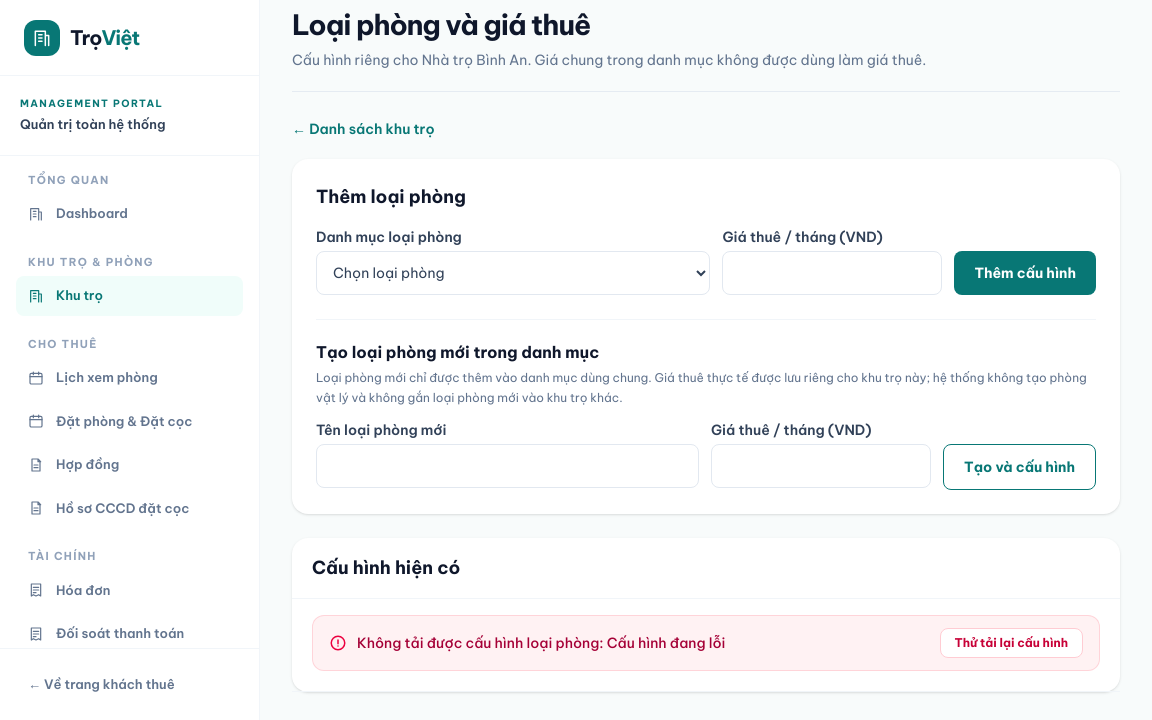
Test: management property room types › keeps property and catalog data when the configurations request fails
(page scrolled)
Expected: the text "Cấu hình riêng cho Nhà trọ Bình An" is shown, [292,50,926,68]
Expected: the text "Không tải được cấu hình loại phòng: Cấu hình đang lỗi" is shown, [357,632,725,652]
Click the button "Thử tải lại cấu hình". click: x=1011, y=642
box: [940,628,1083,658]
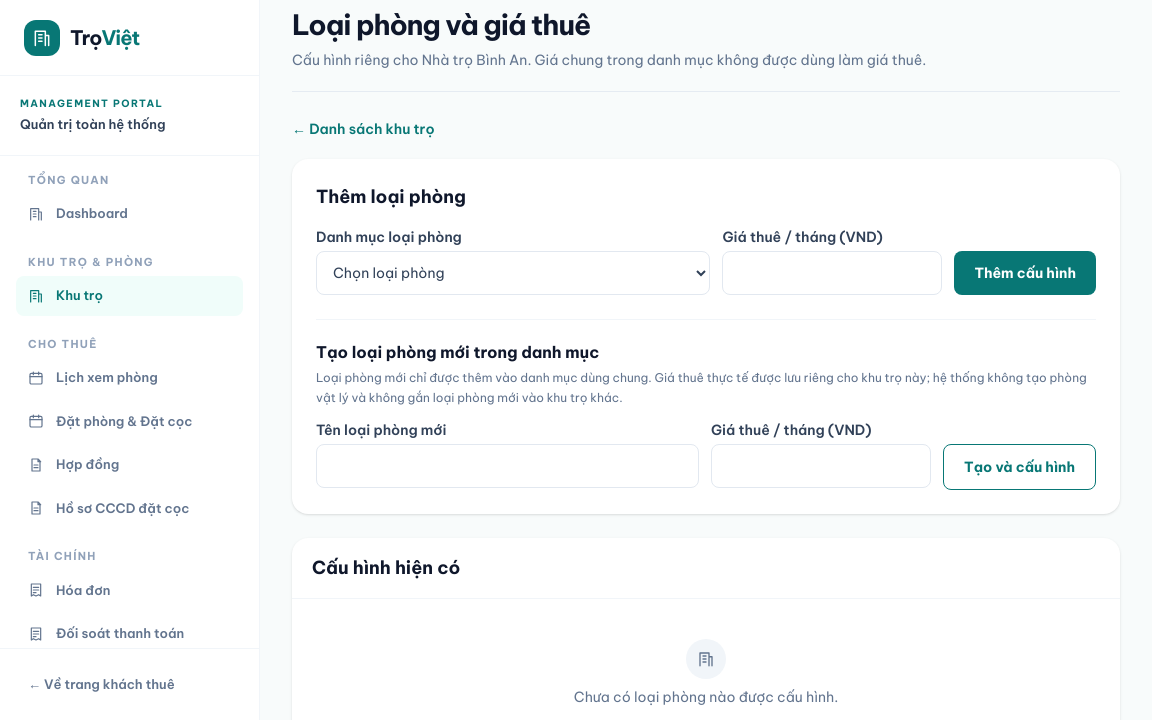
Expected: the text "Chưa có loại phòng nào được cấu hình." is shown, [574,686,838,706]
